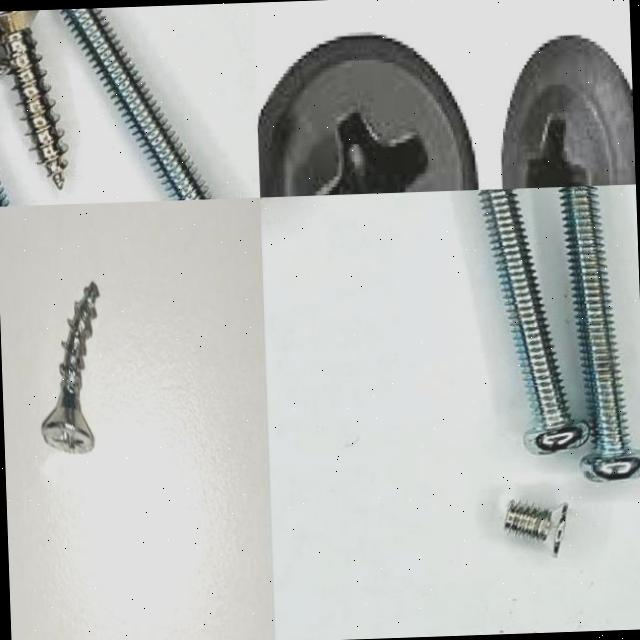Screw: (257, 31, 478, 197), (478, 188, 590, 453), (60, 8, 214, 200), (560, 185, 640, 481), (504, 37, 635, 189), (0, 10, 68, 189), (41, 282, 99, 454), (505, 500, 569, 557), (0, 62, 11, 78)
